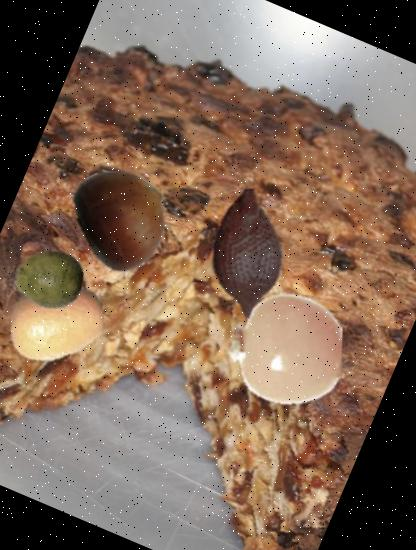Guava: (4, 236, 92, 324)
Kumquats: (0, 259, 119, 386)
Nut: (56, 149, 191, 284)
Physalis: (208, 274, 359, 424)
Salak: (161, 170, 331, 339)
